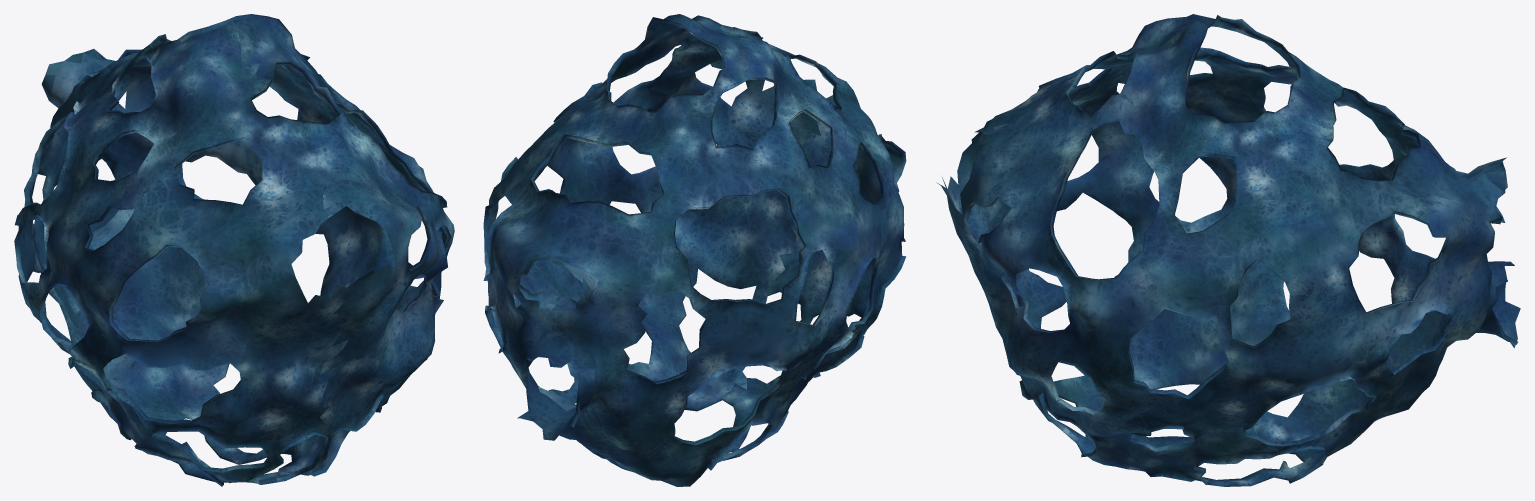
File: stage4.fbx
The picture shows the model from 3 angles, left to right: view 1: azimuth 30°, elevation 25°; view 2: azimuth 150°, elevation 25°; view 3: azimuth 270°, elevation 25°; orthographic projection. The views are drawn at different scales.
Visible parts, largest first — view 1: stage4; view 2: stage4; view 3: stage4.
Boxes of the visible parts, left/top/right/bottom form: stage4: left=14, top=14, right=454, bottom=486; stage4: left=483, top=14, right=906, bottom=486; stage4: left=936, top=14, right=1520, bottom=486.
Bounding box in the file's own units: 328 × 400 × 464.
